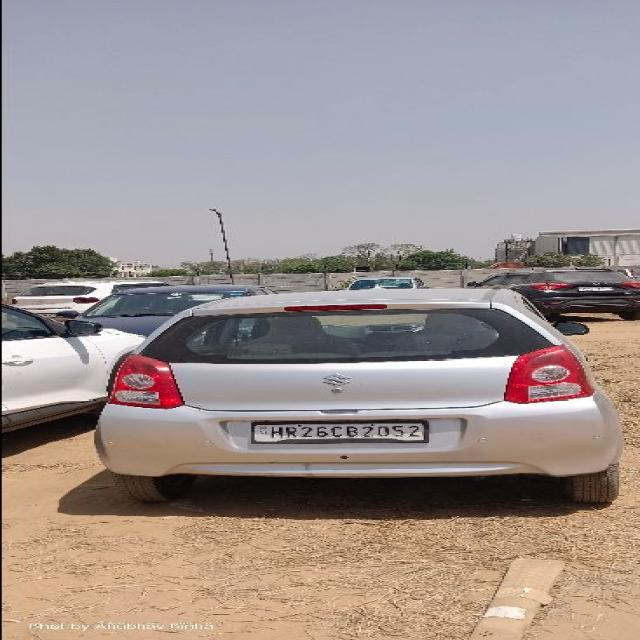license_plate: (248, 419, 429, 443)
